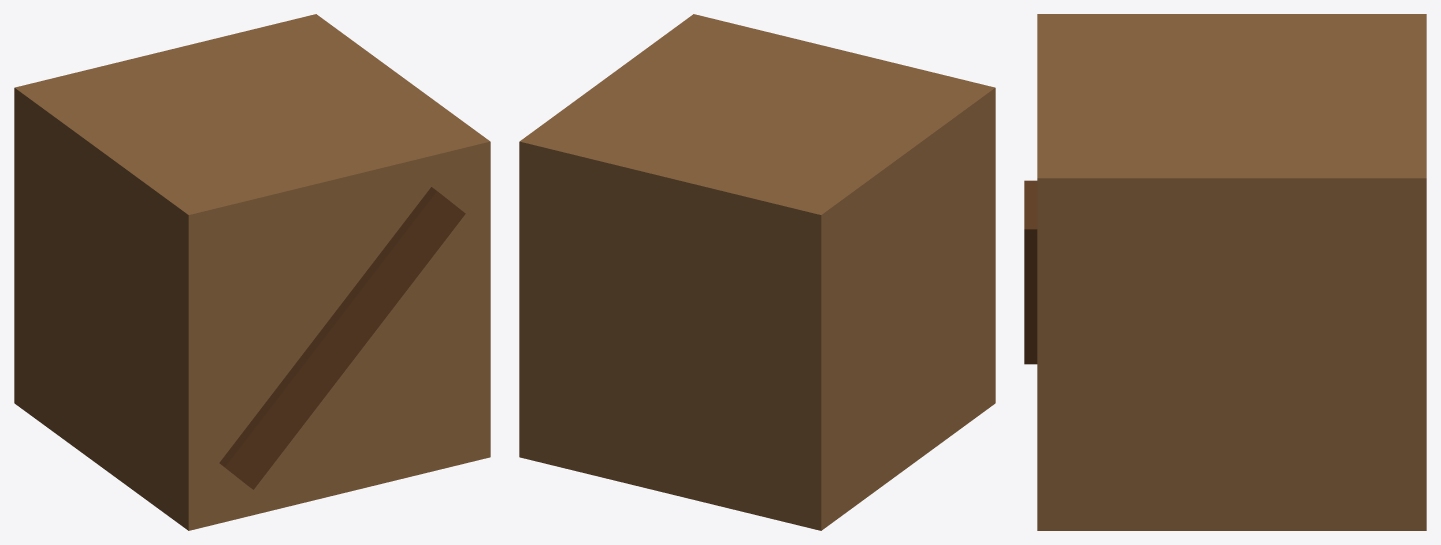
Rendered from SM_GZ_crate.fbx.
The picture shows the model from 3 angles, left to right: view 1: azimuth 30°, elevation 25°; view 2: azimuth 150°, elevation 25°; view 3: azimuth 270°, elevation 25°; orthographic projection. The views are drawn at different scales.
Parts seen in each view (by area): view 1: SM_GZ_crate; view 2: SM_GZ_crate; view 3: SM_GZ_crate.
Part boxes in pixels (bbox=[...]): SM_GZ_crate: bbox=[14, 14, 490, 530]; SM_GZ_crate: bbox=[519, 14, 995, 530]; SM_GZ_crate: bbox=[1024, 14, 1426, 530].
Size of the model in its own units: 90 by 90 by 93.
